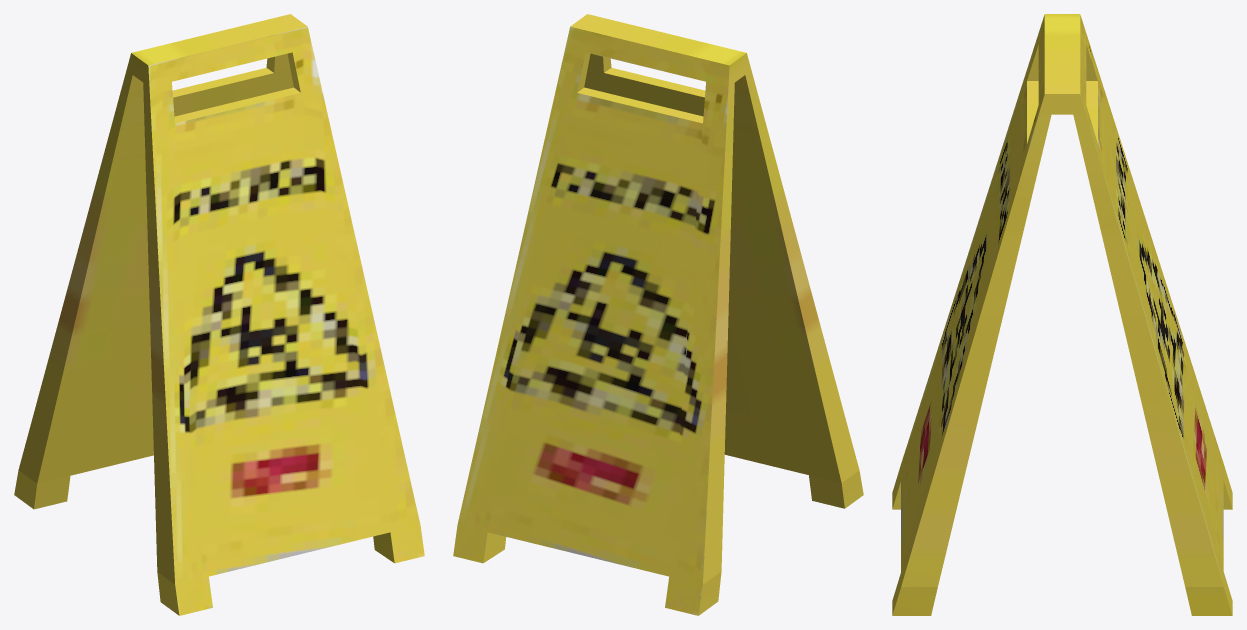
File: Señal_Piso_MojadoA.fbx
3 renders of one model, left to right at view 1: azimuth 30°, elevation 25°; view 2: azimuth 150°, elevation 25°; view 3: azimuth 270°, elevation 25°, orthographic. The views are drawn at different scales.
Visible parts, largest first — view 1: señal 1; view 2: señal 1; view 3: señal 1.
Boxes of the visible parts, x1,y1,x2,y2 form: señal 1: (14, 14, 424, 615); señal 1: (453, 14, 863, 615); señal 1: (892, 14, 1232, 615).
Bounding box in the file's own units: 200 × 378 × 233.
1 material, 1 textured.
